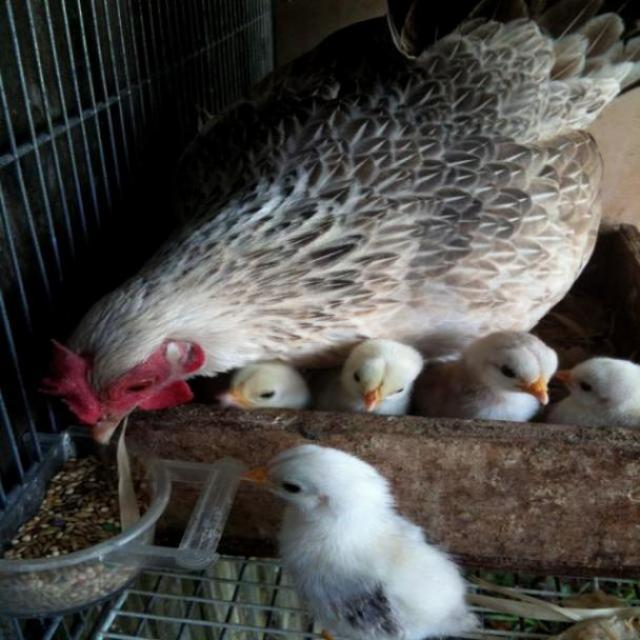Chicken: (41, 0, 640, 453), (250, 438, 488, 640)
